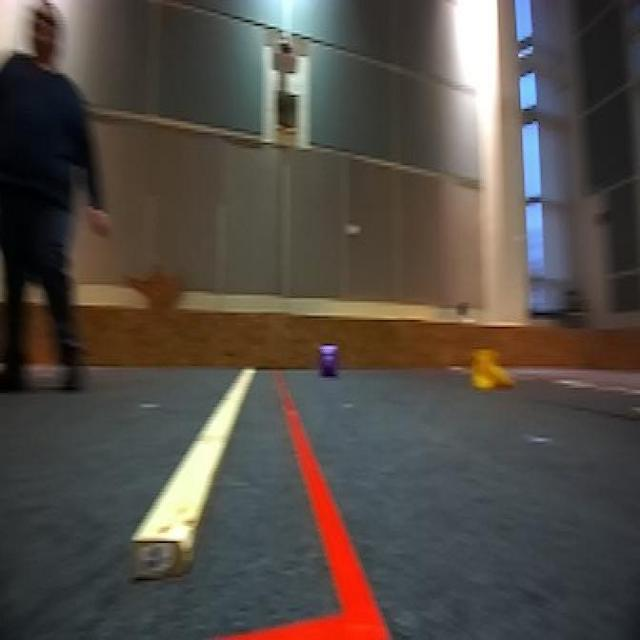frc_cone: (472, 346, 514, 392)
frc_cube: (319, 346, 339, 376)
